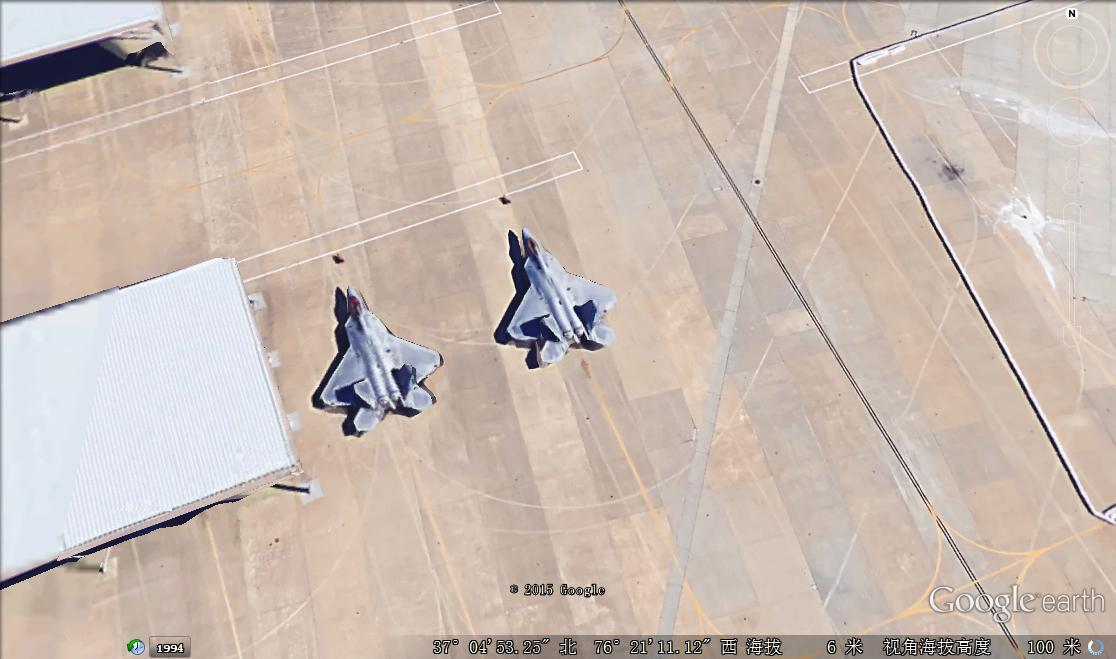F-22: (308, 281, 445, 433), (496, 224, 623, 366)
